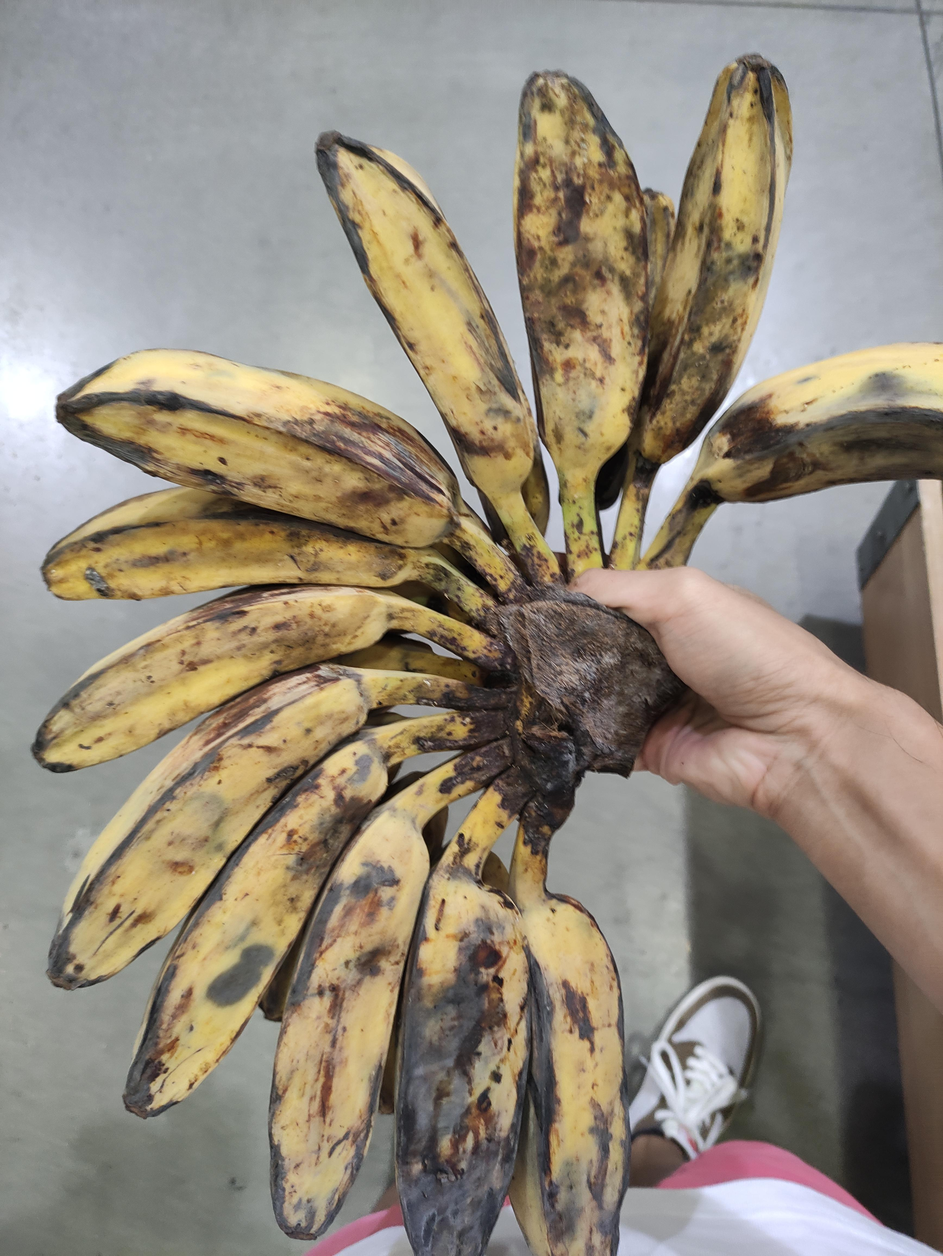ripe: (35, 350, 628, 1256), (310, 54, 943, 501)
